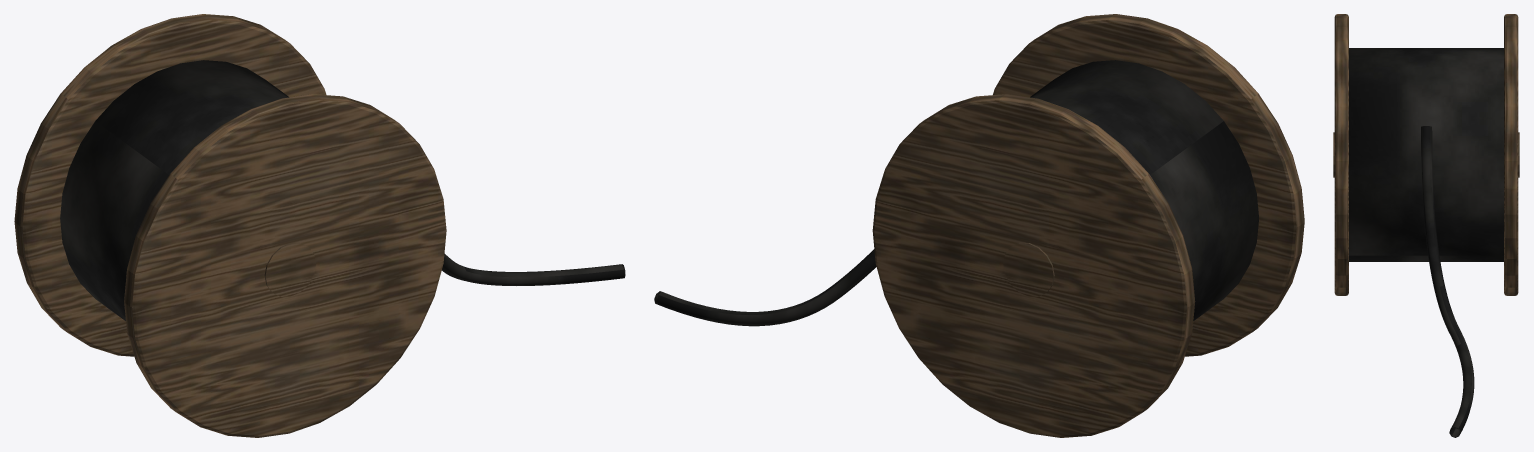
Rendered from ST12_CableDrum.glb.
3 renders of one model, left to right at view 1: azimuth 30°, elevation 25°; view 2: azimuth 150°, elevation 25°; view 3: azimuth 270°, elevation 25°, orthographic. The views are drawn at different scales.
Parts seen in each view (by area): view 1: ST12_CableDrum; view 2: ST12_CableDrum; view 3: ST12_CableDrum.
Boxes of the visible parts, x1=… form: ST12_CableDrum: x1=14, y1=14, x2=625, y2=437; ST12_CableDrum: x1=654, y1=14, x2=1304, y2=437; ST12_CableDrum: x1=1333, y1=14, x2=1519, y2=437.
Bounding box in the file's own units: 1 × 0.5541 × 0.3657.
Materials: 2 (2 with a texture image).
